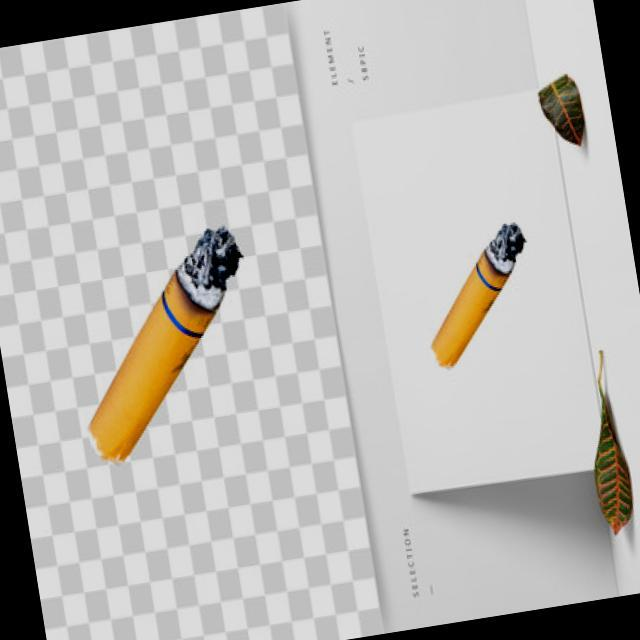cigarette: (56, 218, 277, 472)
